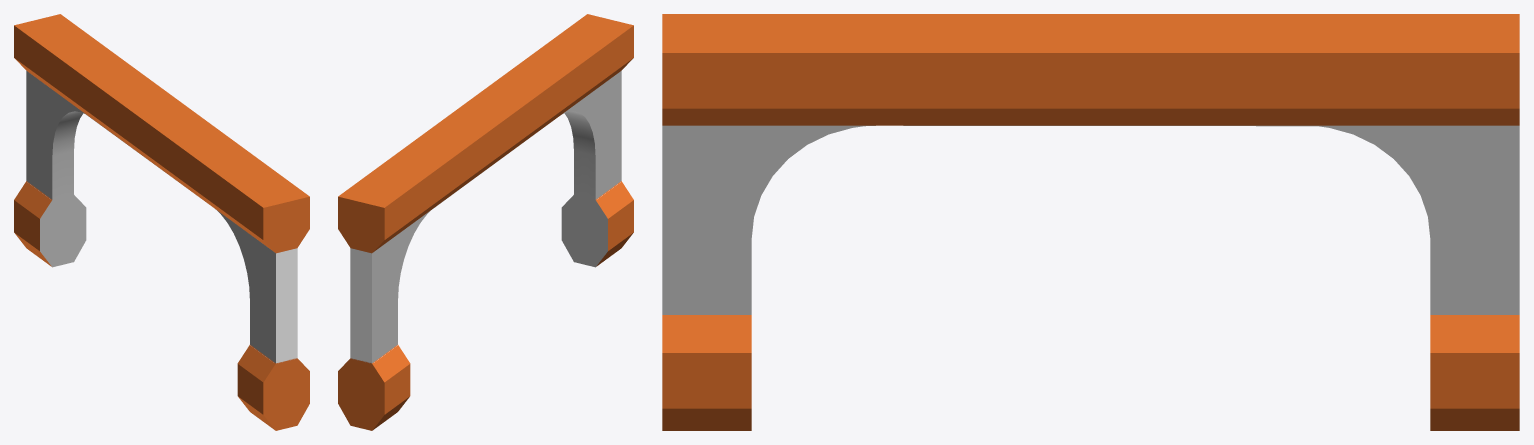
The model's file is hangar_door.fbx.
3 views of the same model, side by side, from view 1: azimuth 30°, elevation 25°; view 2: azimuth 150°, elevation 25°; view 3: azimuth 270°, elevation 25° (orthographic). The views are drawn at different scales.
Parts seen in each view (by area): view 1: hangar_door; view 2: hangar_door; view 3: hangar_door.
Boxes of the visible parts, x1,y1,x2,y2 form: hangar_door: [14, 14, 309, 430]; hangar_door: [338, 14, 633, 430]; hangar_door: [662, 14, 1519, 430].
Bounding box in the file's own units: 64.54 × 300 × 600.
Materials: 2 (1 with a texture image).
